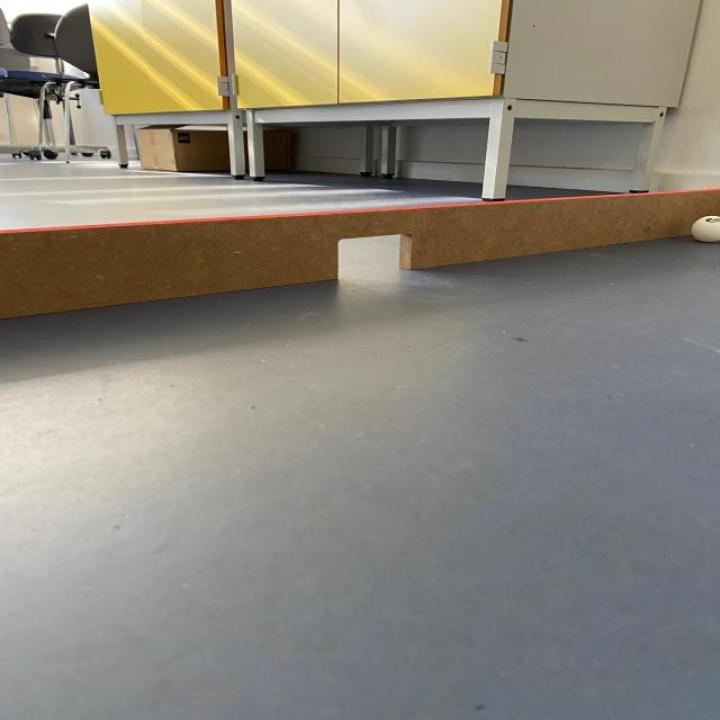white: (691, 214, 720, 242)
